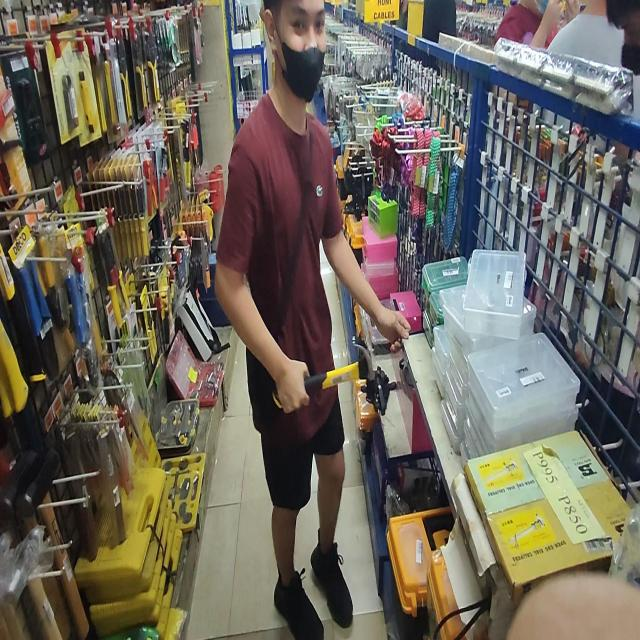hammer: (272, 335, 376, 411)
